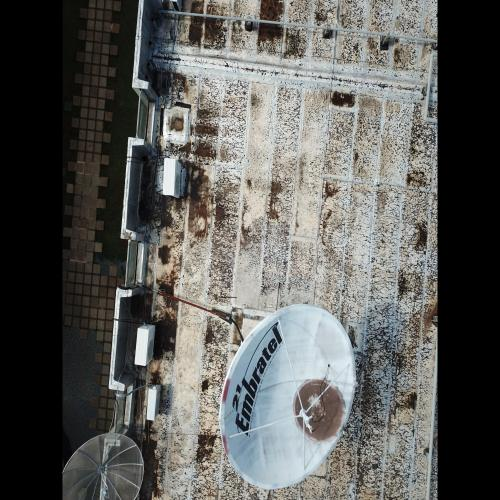conde: (134, 322, 158, 368), (163, 157, 184, 201), (146, 383, 164, 425), (168, 1, 186, 14)
